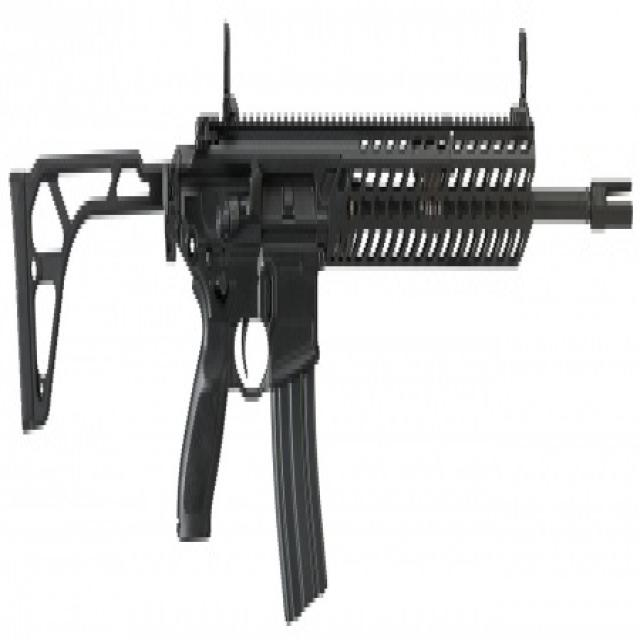rifle: (5, 10, 638, 640)
